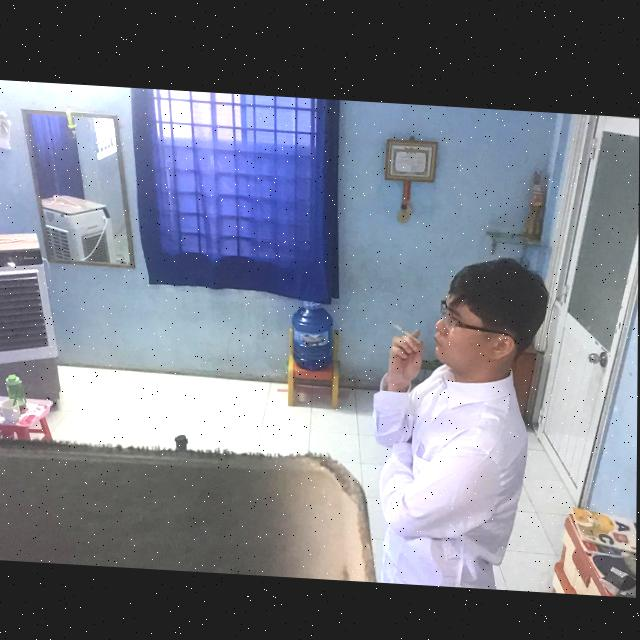cigarette: (390, 315, 421, 339)
